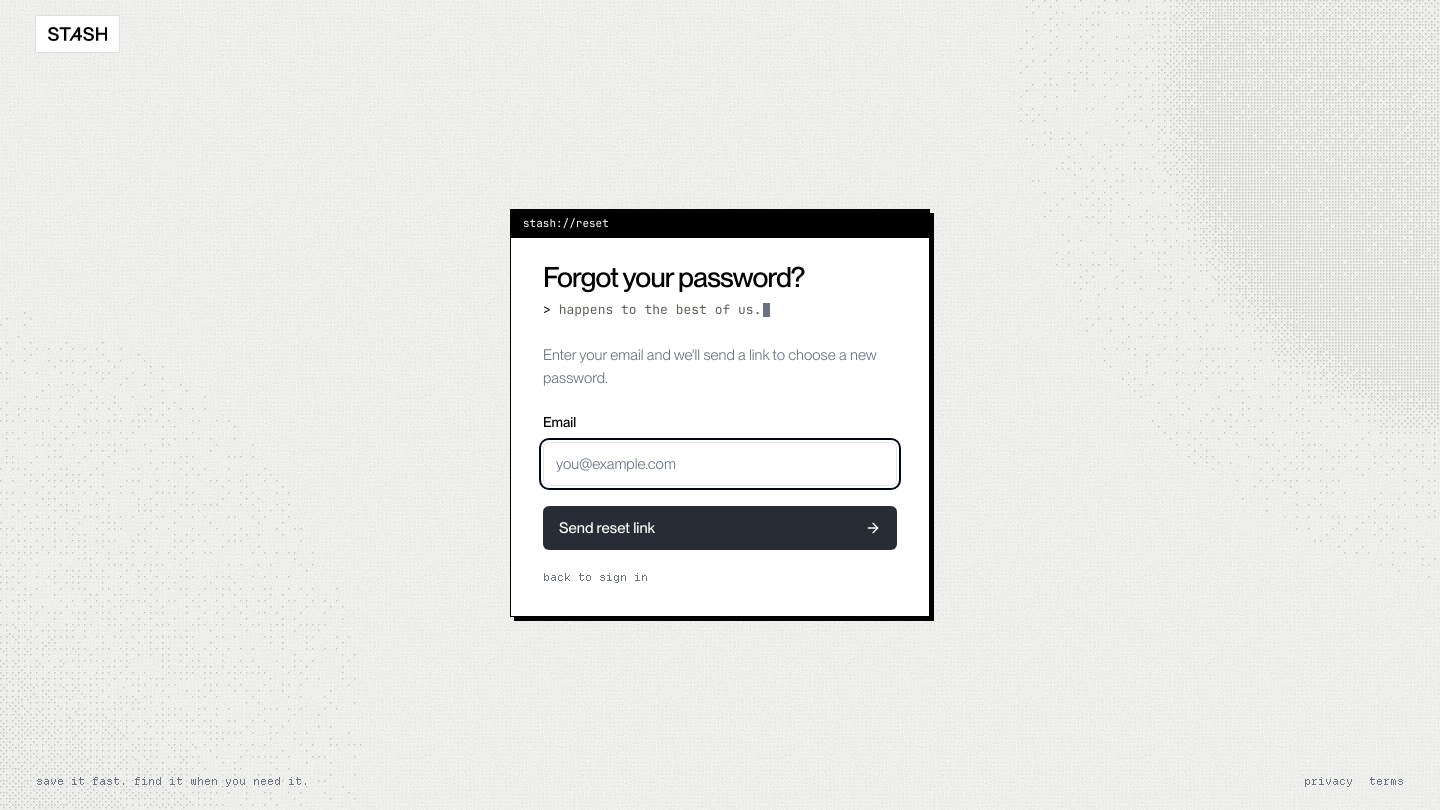
Test: Auth — forgot password › returns to sign in from the reset form
The image size is (1440, 810).
Click the button "back to sign in" at (596, 578), box [543,570,648,586]
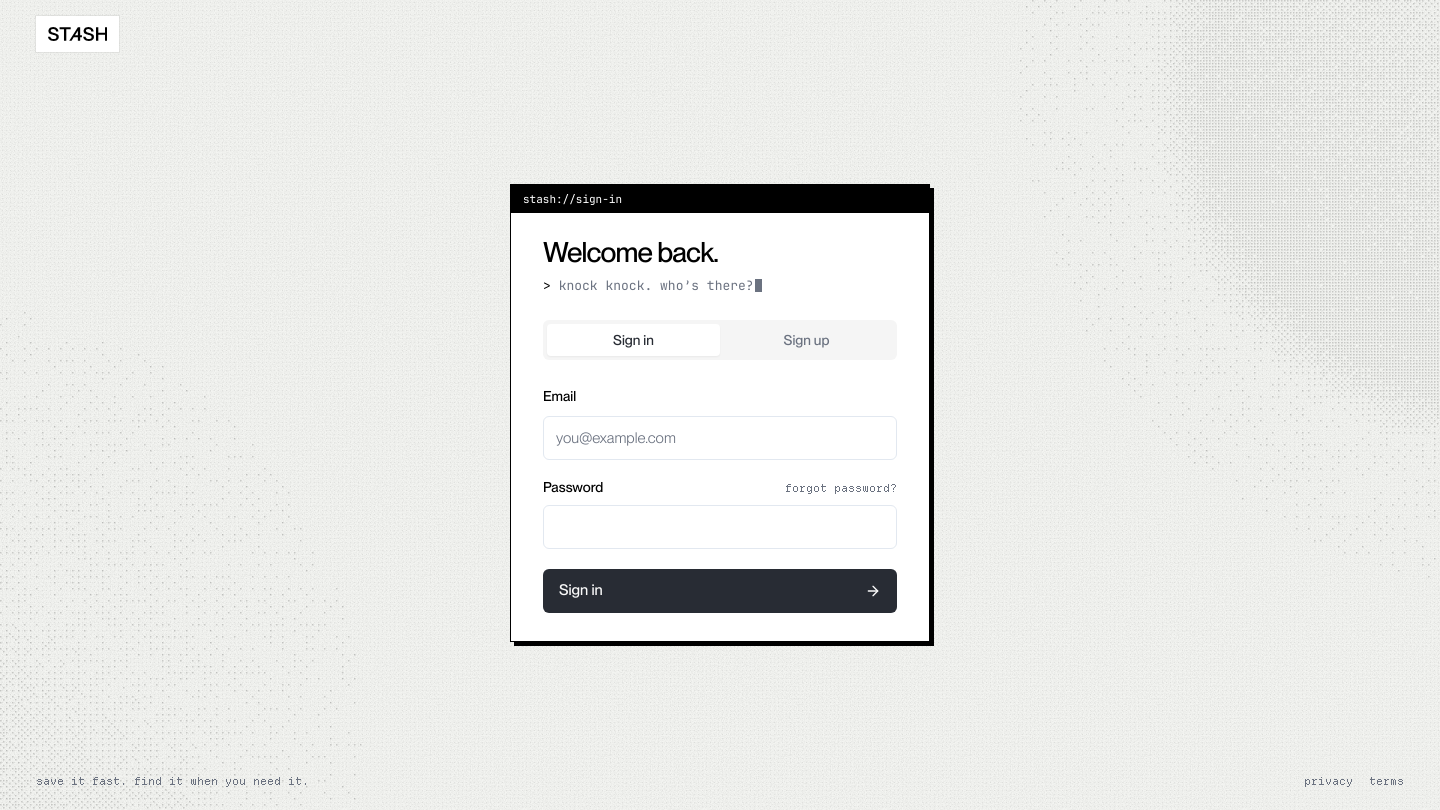
Result: the tab "Sign in" is shown at [547,324,720,356]
